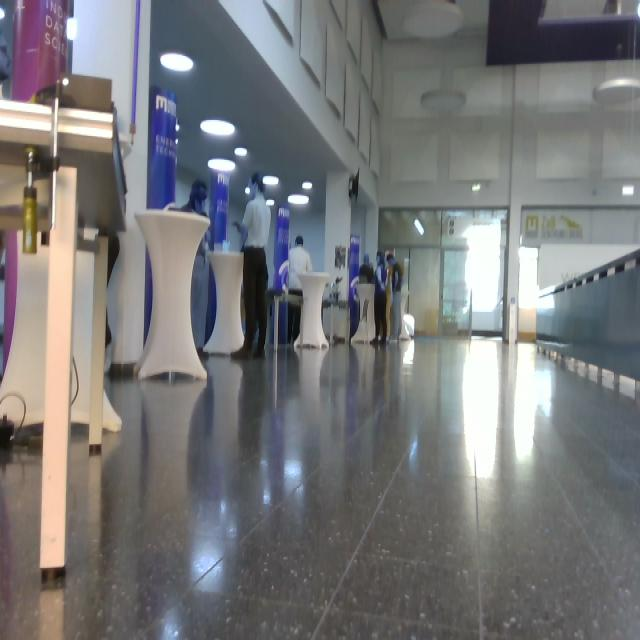light bulb: (402, 1, 464, 40), (593, 77, 640, 106), (421, 89, 466, 112), (160, 52, 194, 73), (200, 118, 235, 137), (208, 158, 236, 173), (66, 17, 78, 41), (288, 194, 310, 205), (414, 218, 425, 236), (234, 146, 248, 157), (263, 176, 279, 185), (302, 181, 313, 190), (266, 199, 275, 207), (245, 187, 251, 195)
person: (231, 172, 272, 360), (287, 236, 313, 345), (370, 250, 389, 345)
pillar: (40, 165, 78, 577)
staircase: (1, 81, 130, 582)
tiled floor: (2, 333, 639, 638)
